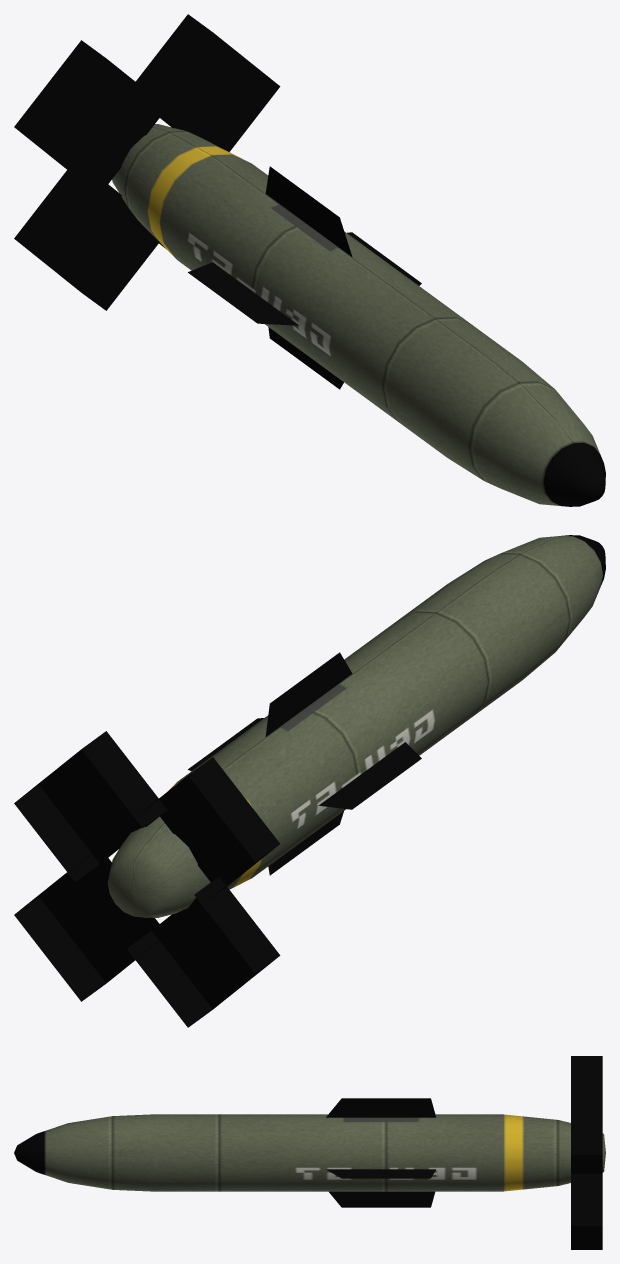
The model's file is bomb_body_lod1.obj.
3 views of the same model, one above another, from view 1: azimuth 30°, elevation 25°; view 2: azimuth 150°, elevation 25°; view 3: azimuth 270°, elevation 25° (orthographic). The views are drawn at different scales.
Bounding box in the file's own units: 1.86 × 1.86 × 6.2.
